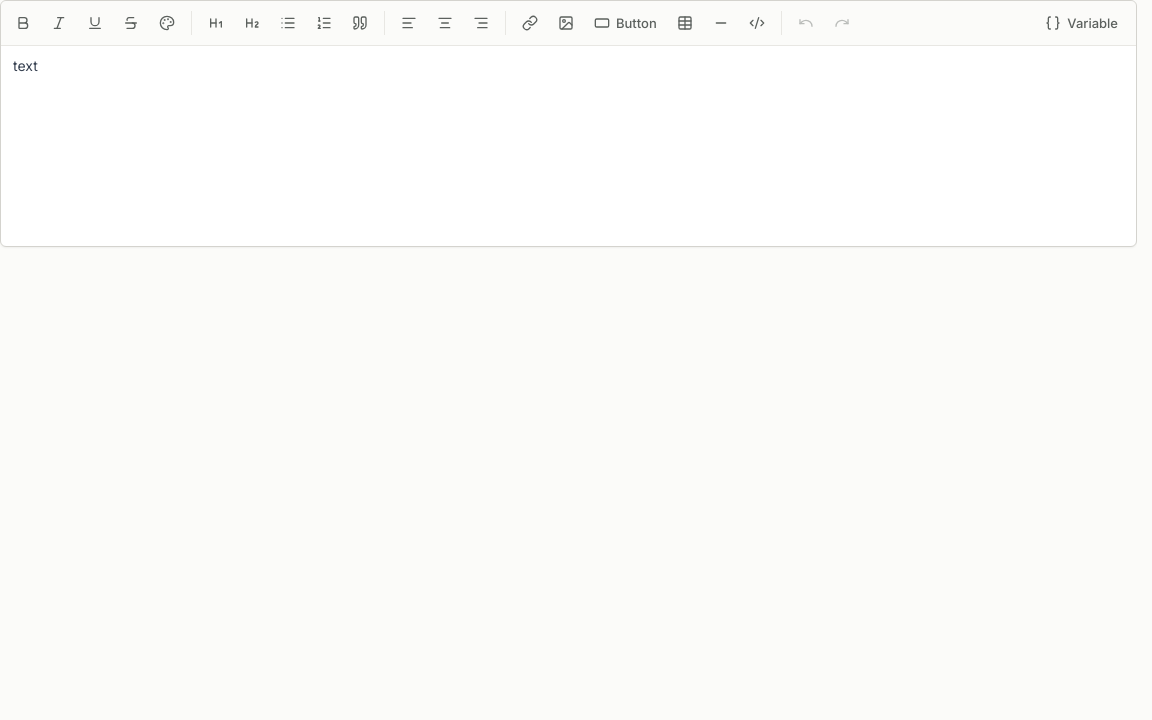
it: RichTextEditor › keeps the link dialog open and says why when the URL is blank
Click the button named "Link": (530, 23) [514,7,546,39]
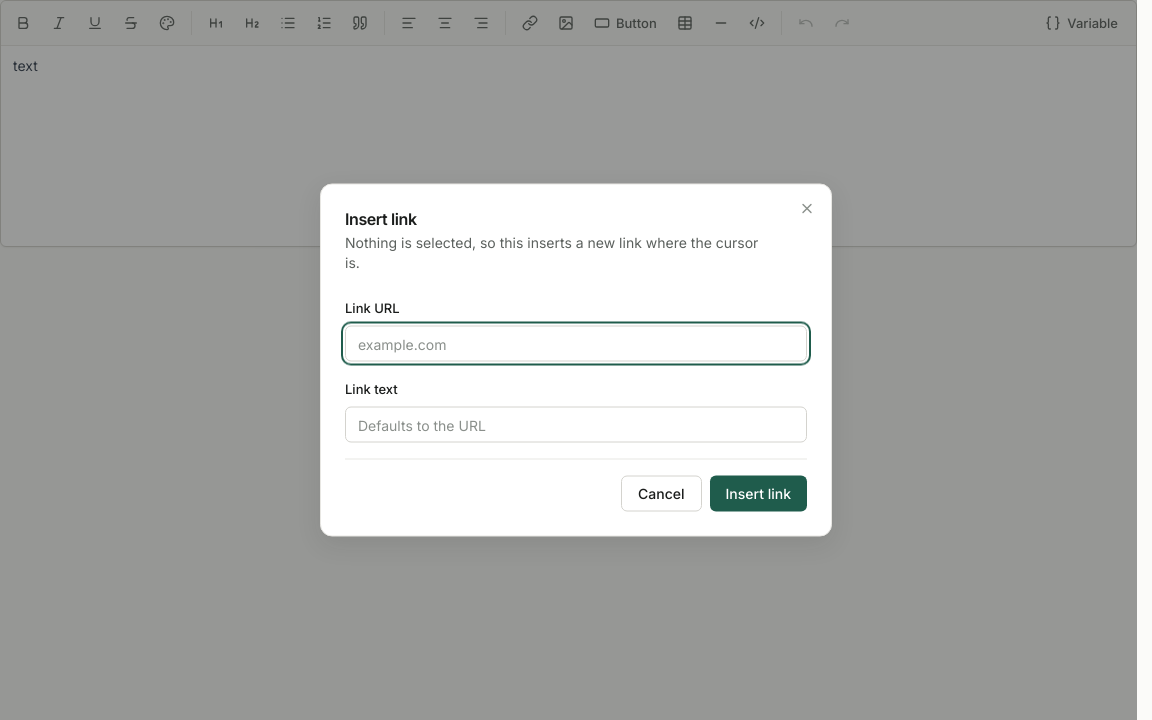
Click the button "Insert link": (758, 494) [710,476,807,512]
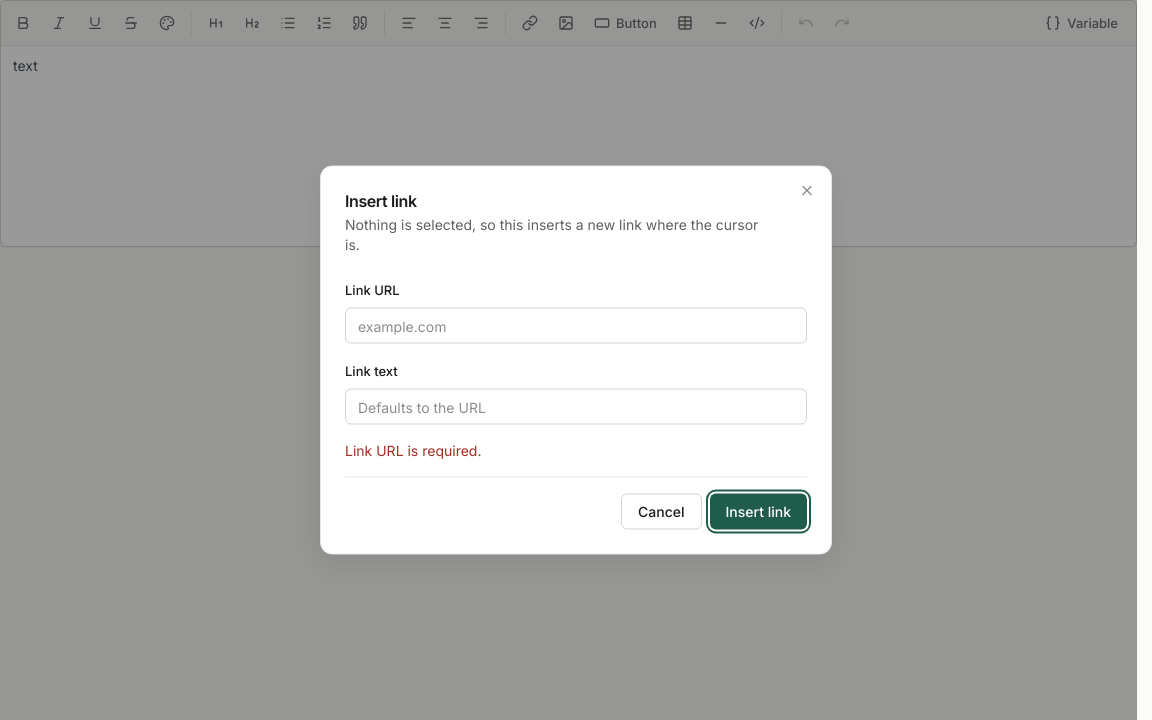
Expected: the message shows "Link URL is required", [345,442,482,458]
